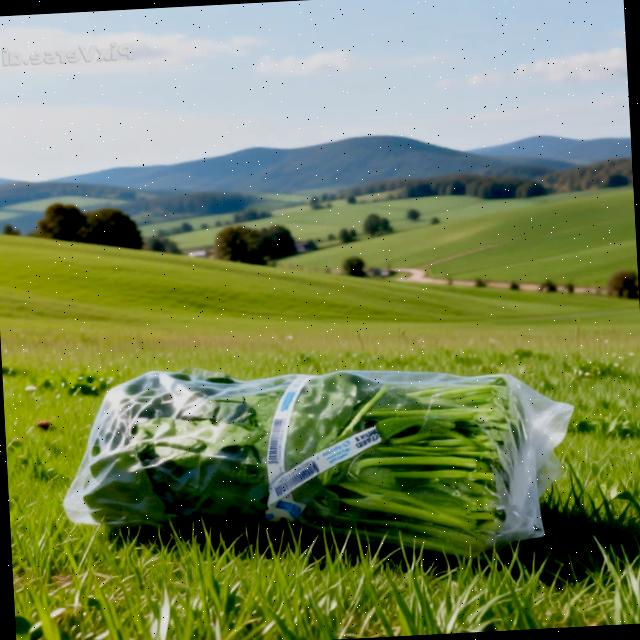spinach: (2, 329, 608, 609)
